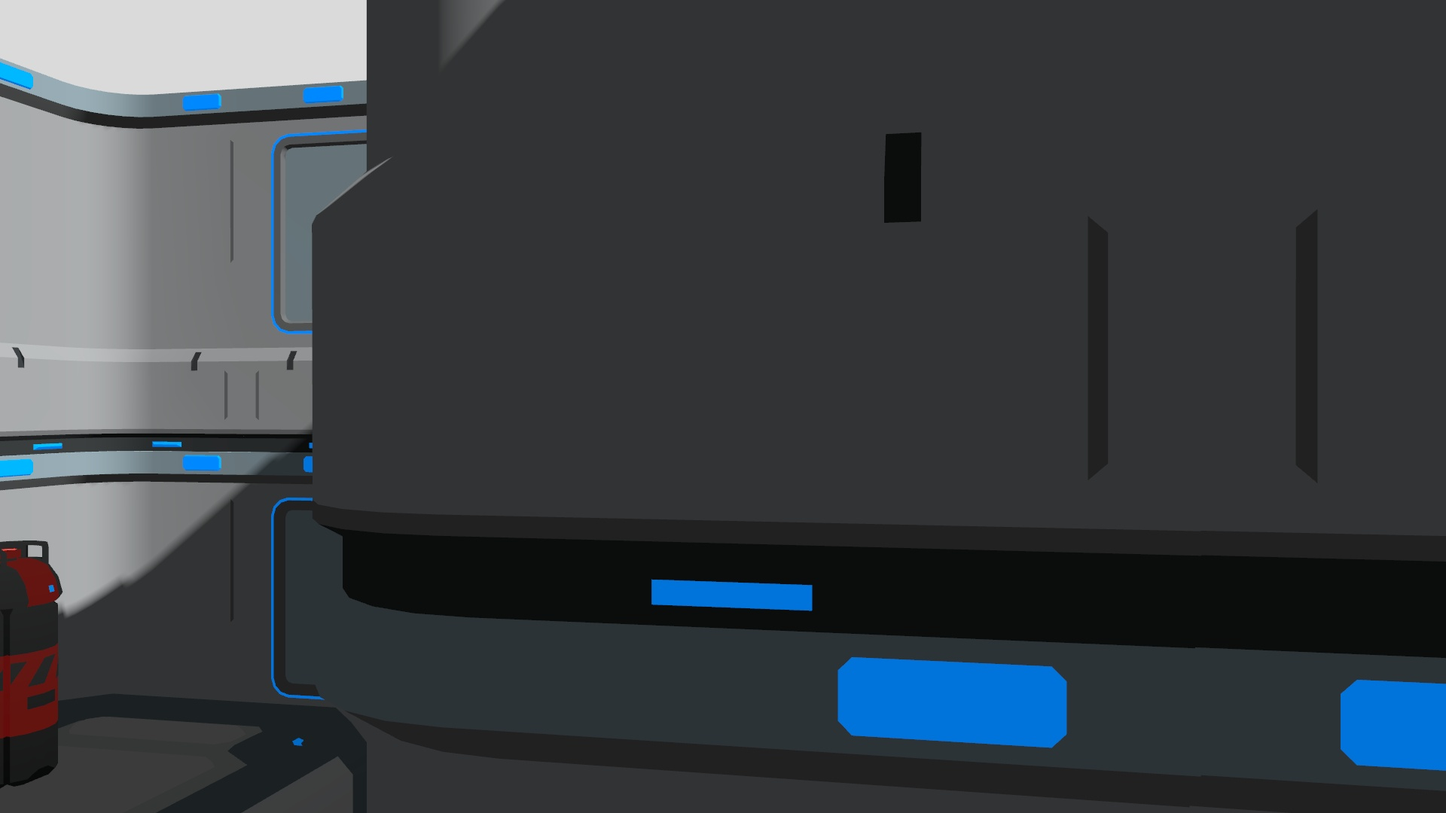red_barrel: (1, 534, 63, 793)
